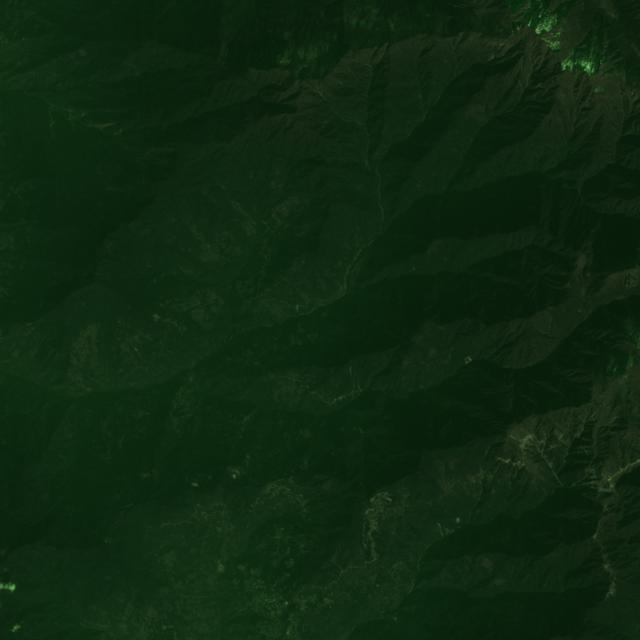landslides: (234, 203, 258, 225), (477, 100, 490, 123), (551, 418, 569, 431), (510, 464, 524, 479), (244, 222, 258, 237), (316, 79, 326, 99), (73, 107, 91, 118), (519, 575, 531, 589), (344, 370, 356, 383), (509, 460, 521, 473), (380, 140, 391, 154), (96, 121, 118, 128), (611, 125, 622, 138), (40, 463, 53, 472), (330, 80, 341, 90), (47, 377, 57, 387), (553, 429, 563, 439)
